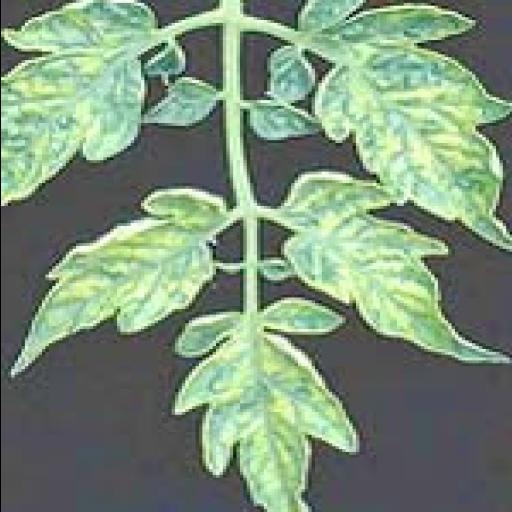Mosaic Virus: (262, 0, 512, 252), (273, 166, 512, 366), (7, 182, 225, 380), (167, 298, 363, 512), (4, 3, 184, 217)
